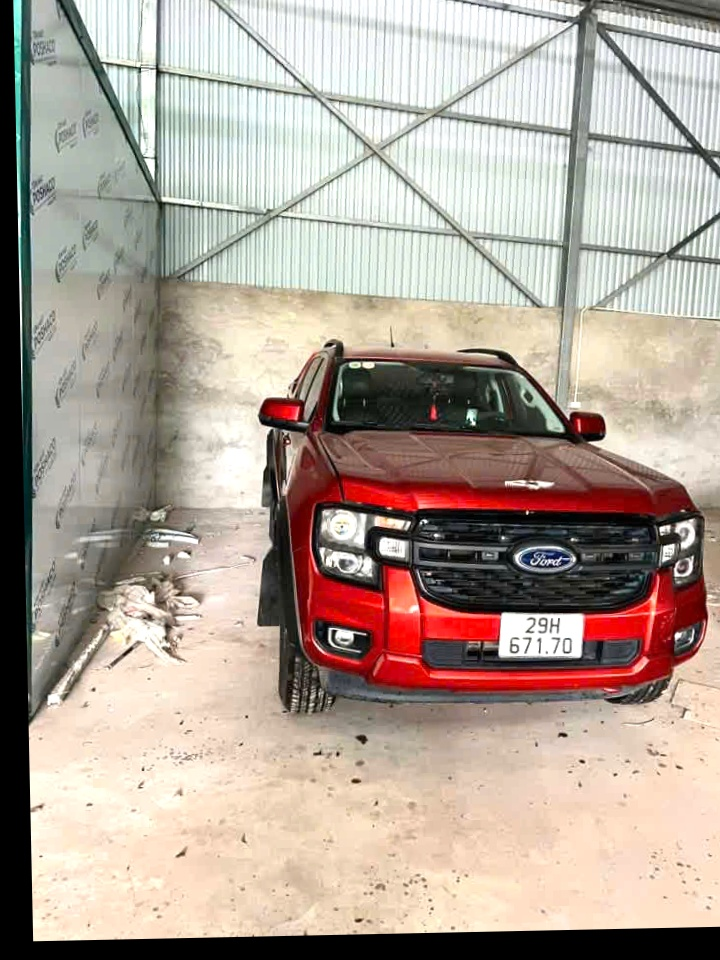Bien-so: (506, 623, 585, 686)
